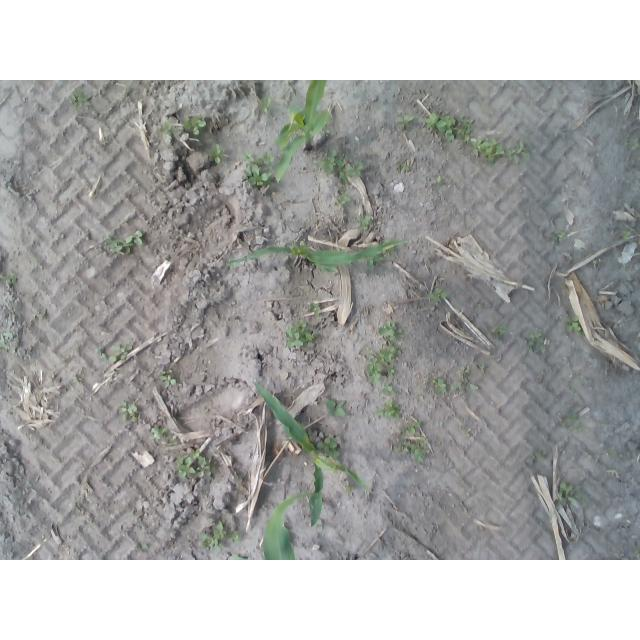Maize: (250, 379, 376, 527), (228, 238, 412, 274), (276, 80, 333, 182), (262, 492, 331, 560)
Weeds: (427, 114, 457, 142), (472, 138, 505, 163), (202, 519, 226, 551), (287, 320, 313, 348), (244, 164, 273, 186), (380, 321, 405, 340), (316, 438, 340, 457), (184, 117, 207, 136), (511, 140, 530, 162), (411, 441, 429, 464), (379, 403, 402, 421), (457, 118, 473, 143), (317, 151, 335, 172), (209, 144, 228, 163), (528, 332, 545, 353), (368, 357, 381, 384), (428, 288, 448, 305), (120, 401, 137, 421), (179, 456, 195, 477), (326, 400, 347, 416), (566, 414, 582, 432), (112, 241, 131, 256), (565, 316, 581, 333), (355, 215, 373, 230), (115, 345, 133, 360), (256, 97, 272, 113), (335, 156, 346, 179), (453, 383, 480, 392), (380, 346, 395, 362), (71, 92, 85, 108), (347, 164, 364, 177), (402, 422, 420, 434), (126, 232, 142, 245), (433, 378, 447, 392), (258, 152, 274, 164), (160, 376, 177, 387), (158, 123, 172, 136), (395, 114, 413, 124), (153, 426, 168, 438), (526, 453, 543, 463), (560, 483, 572, 497), (397, 440, 411, 452), (228, 530, 240, 542), (340, 192, 351, 205), (101, 354, 116, 363), (0, 272, 16, 280), (383, 385, 394, 396), (243, 150, 253, 162), (369, 257, 384, 265), (398, 162, 410, 172), (310, 304, 320, 316), (196, 466, 209, 475), (190, 449, 201, 459), (0, 339, 10, 350), (104, 236, 115, 245), (572, 377, 581, 388), (632, 138, 639, 151), (138, 543, 150, 550), (622, 232, 631, 241), (3, 332, 13, 340), (199, 458, 209, 466), (363, 348, 373, 356), (387, 366, 395, 375), (461, 367, 468, 377), (610, 451, 618, 458), (464, 429, 472, 436), (479, 363, 486, 371), (497, 327, 505, 334), (558, 232, 565, 240), (75, 376, 82, 383), (161, 370, 173, 374), (438, 176, 443, 183), (624, 139, 629, 145), (592, 260, 596, 264)
